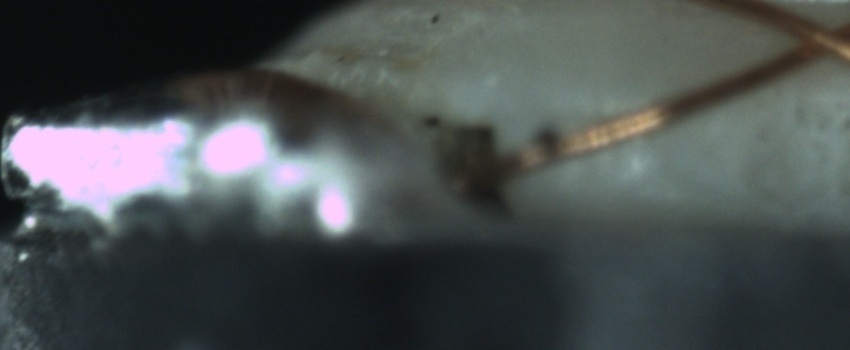CL: (772, 3, 847, 70)
